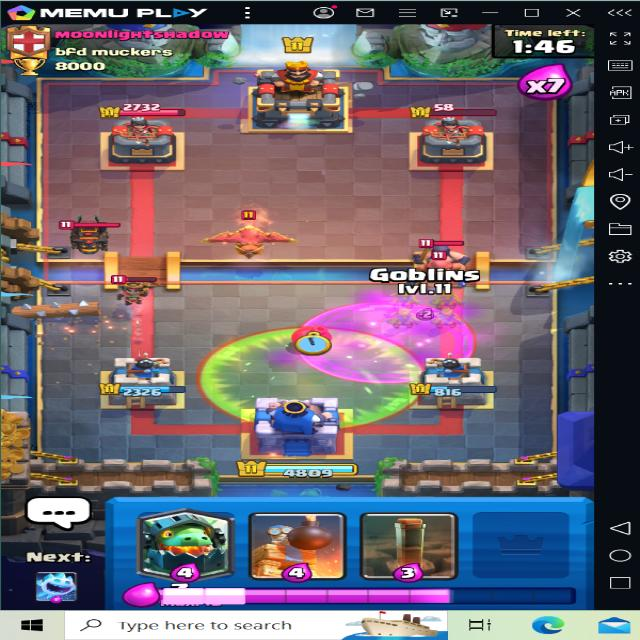Executioner: (409, 231, 474, 269)
Fisherman: (401, 253, 478, 295)
Goblincurse: (192, 327, 418, 428)
Lavahound: (40, 218, 132, 255)
Littleprince: (109, 271, 164, 313)
Pheonix: (197, 204, 308, 263)
Rage: (301, 297, 474, 383)
